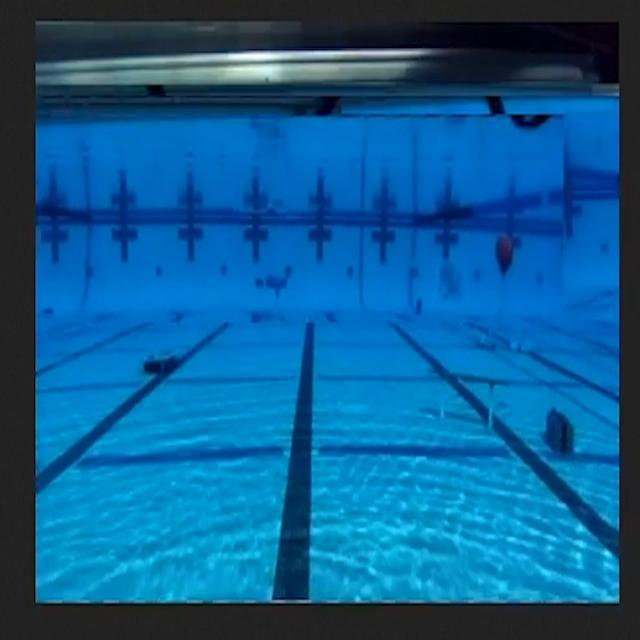Buoy: (492, 227, 518, 288)
